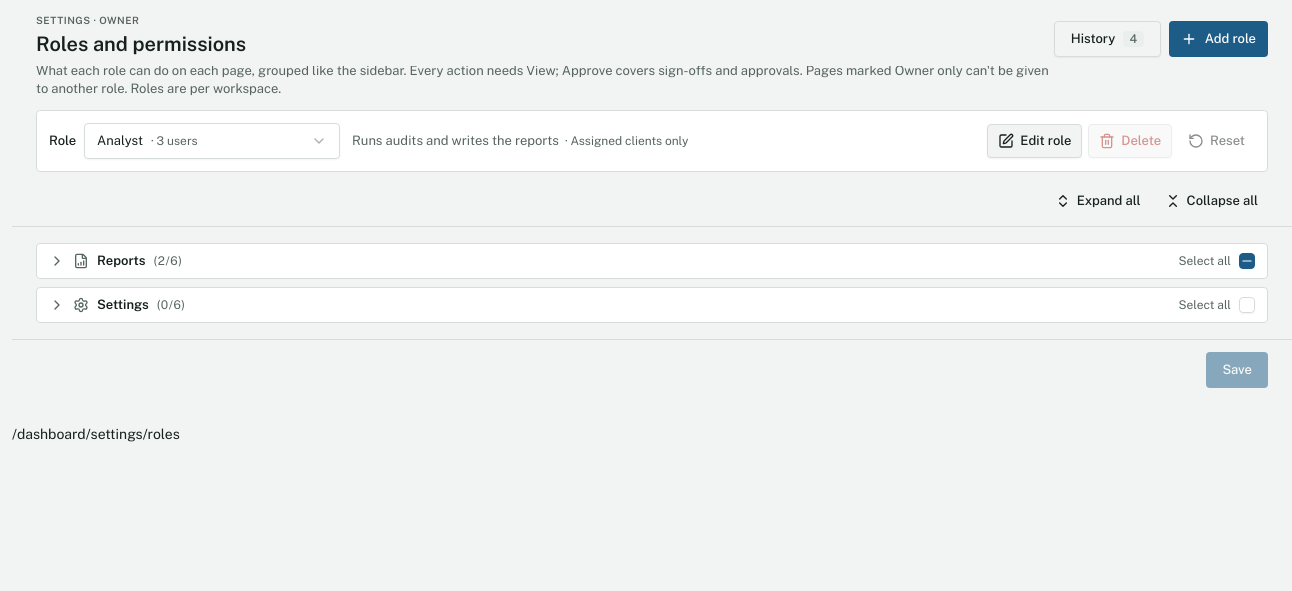
Test: RolesPage › groups pages like the sidebar, collapsed, with counts
The image size is (1292, 591).
Expected: the dropdown named "Role" shows "Analyst", x1=84 y1=123 x2=340 y2=159
Click the button "Reports (2/6)" at (121, 260), box x1=49 y1=252 x2=1166 y2=270
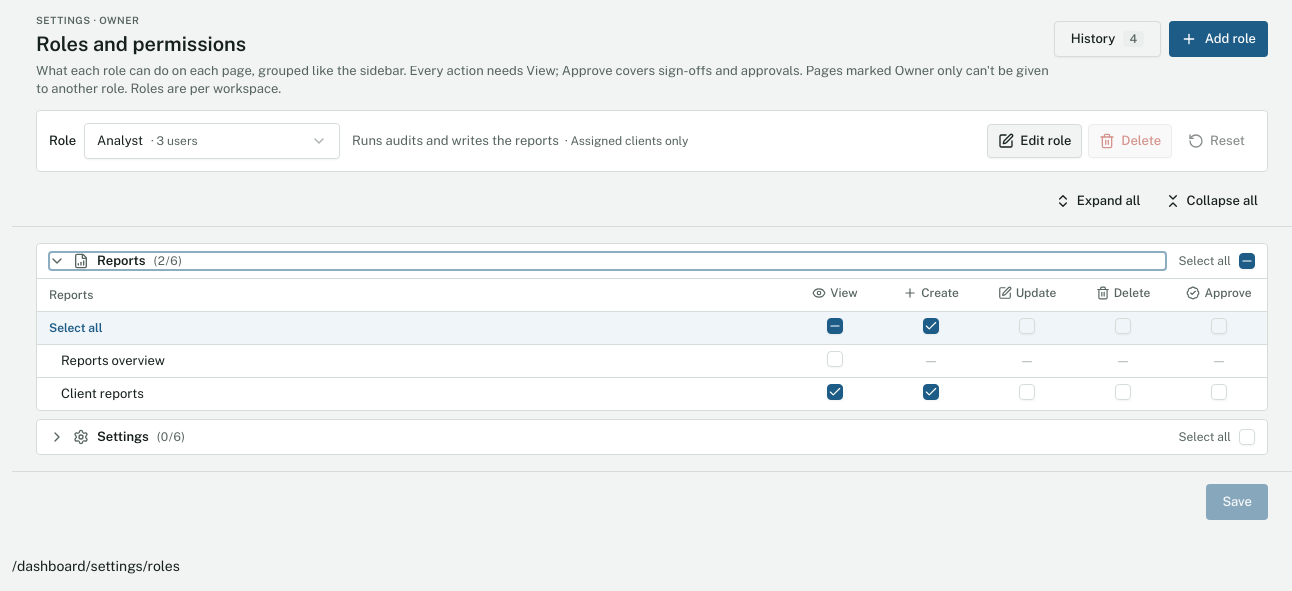
Expected: the checkbox named "View Client reports" is checked, x1=827 y1=384 x2=843 y2=400
Expected: the checkbox named "Create Client reports" is checked, x1=923 y1=384 x2=939 y2=400
Expected: the checkbox named "Approve Client reports" is not checked, x1=1211 y1=384 x2=1227 y2=400
